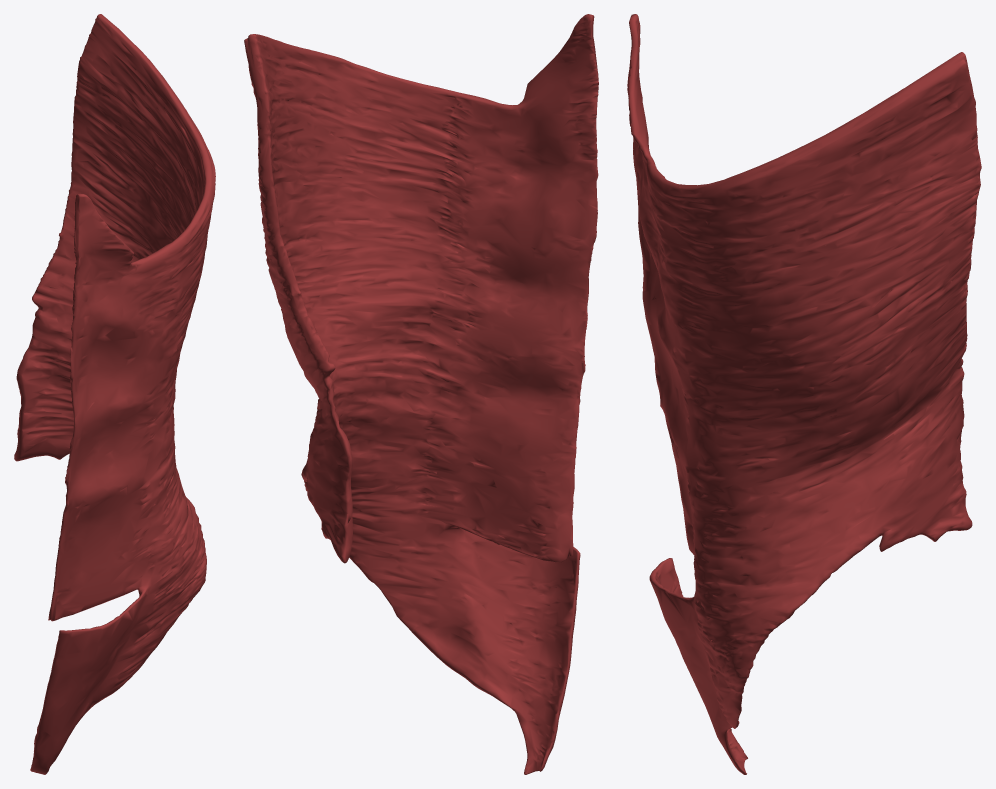
Rendered from transversus-abdominis-muscle-l.glb.
The picture shows the model from 3 angles, left to right: view 1: azimuth 30°, elevation 25°; view 2: azimuth 150°, elevation 25°; view 3: azimuth 270°, elevation 25°; orthographic projection. The views are drawn at different scales.
Parts seen in each view (by area): view 1: Transversus abdominis muscle.l; view 2: Transversus abdominis muscle.l; view 3: Transversus abdominis muscle.l.
Boxes of the visible parts, x1,y1,x2,y2 form: Transversus abdominis muscle.l: [14, 14, 215, 774]; Transversus abdominis muscle.l: [244, 14, 598, 774]; Transversus abdominis muscle.l: [627, 14, 981, 774].
Bounding box in the file's own units: 0.1295 × 0.4211 × 0.1674.
